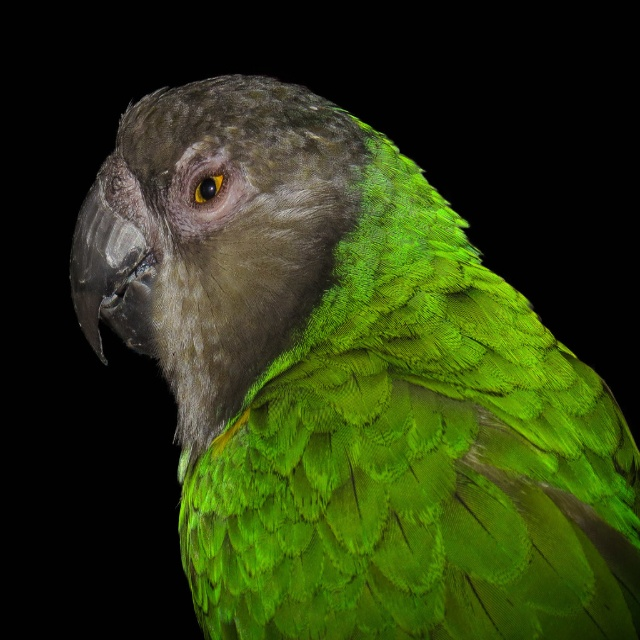Parrot: (69, 74, 640, 639)
